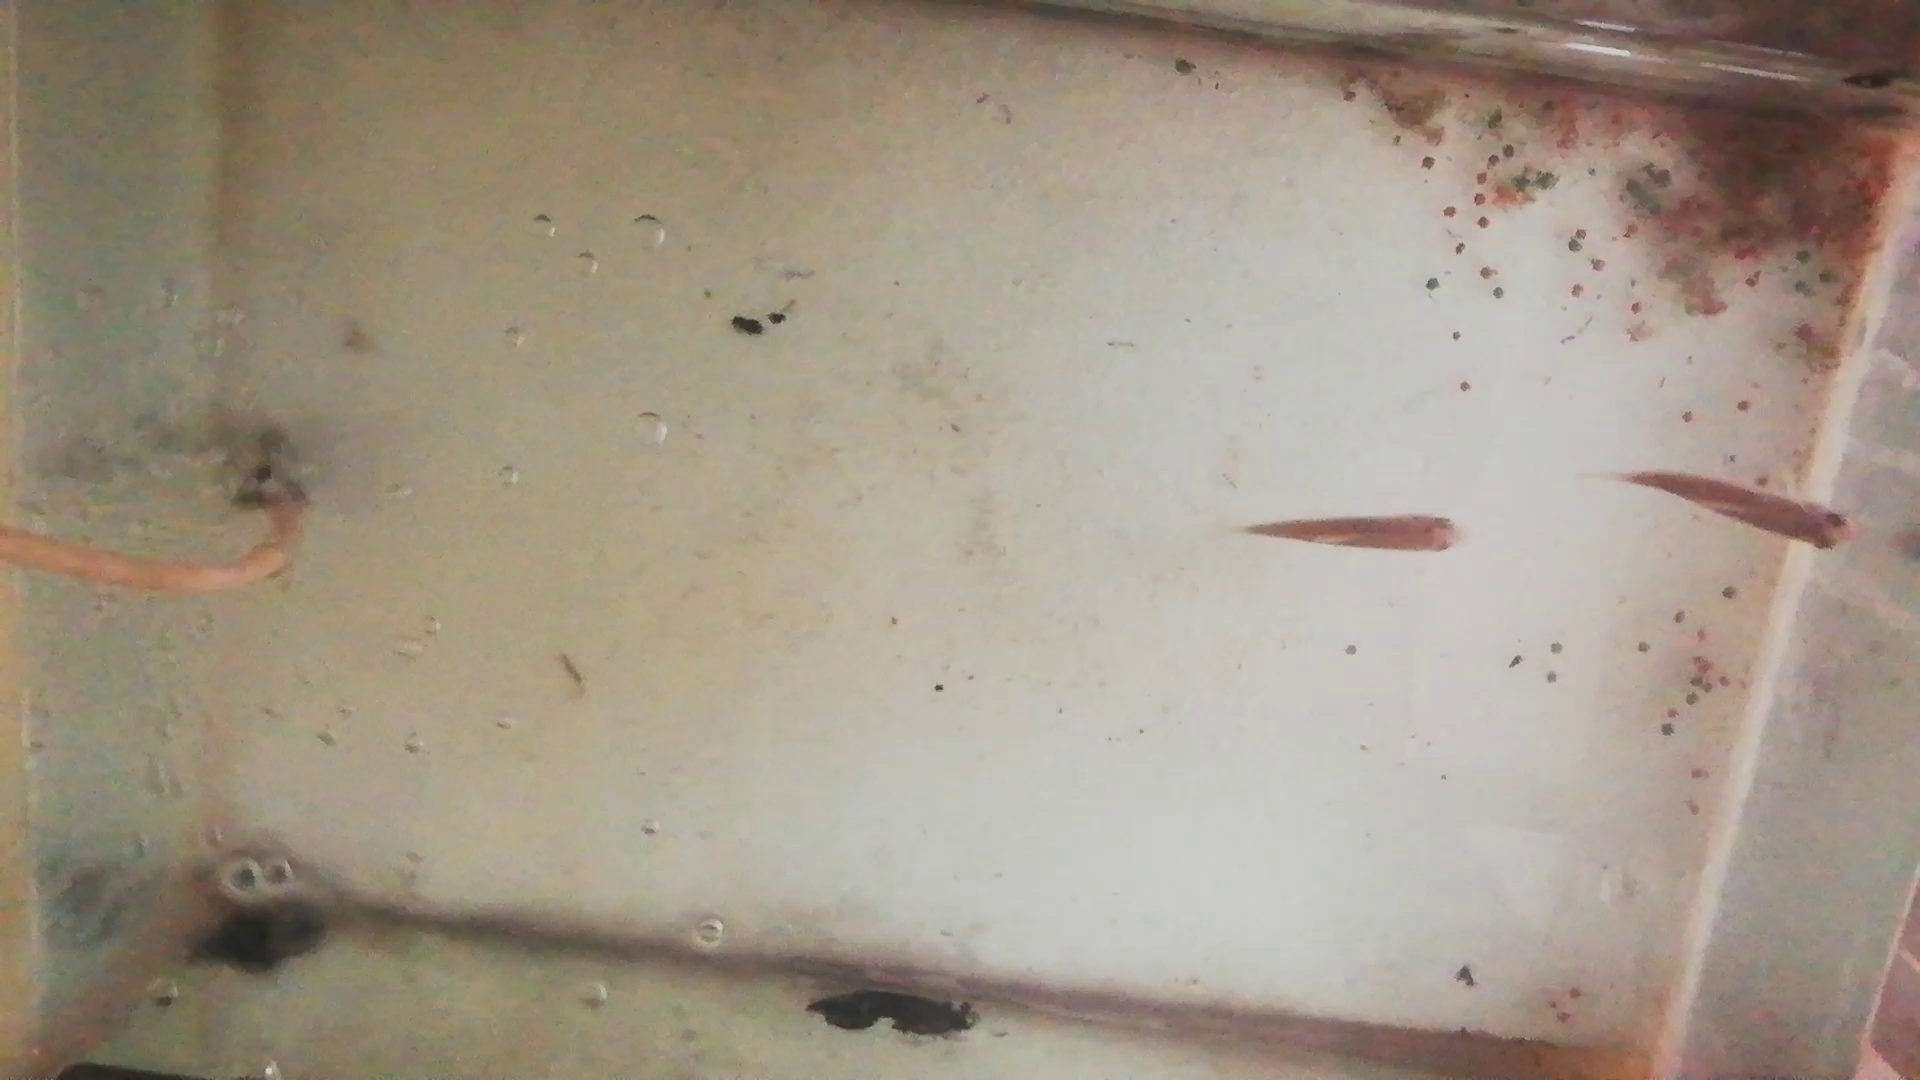fish: (1629, 467, 1862, 556), (1244, 510, 1465, 556)
